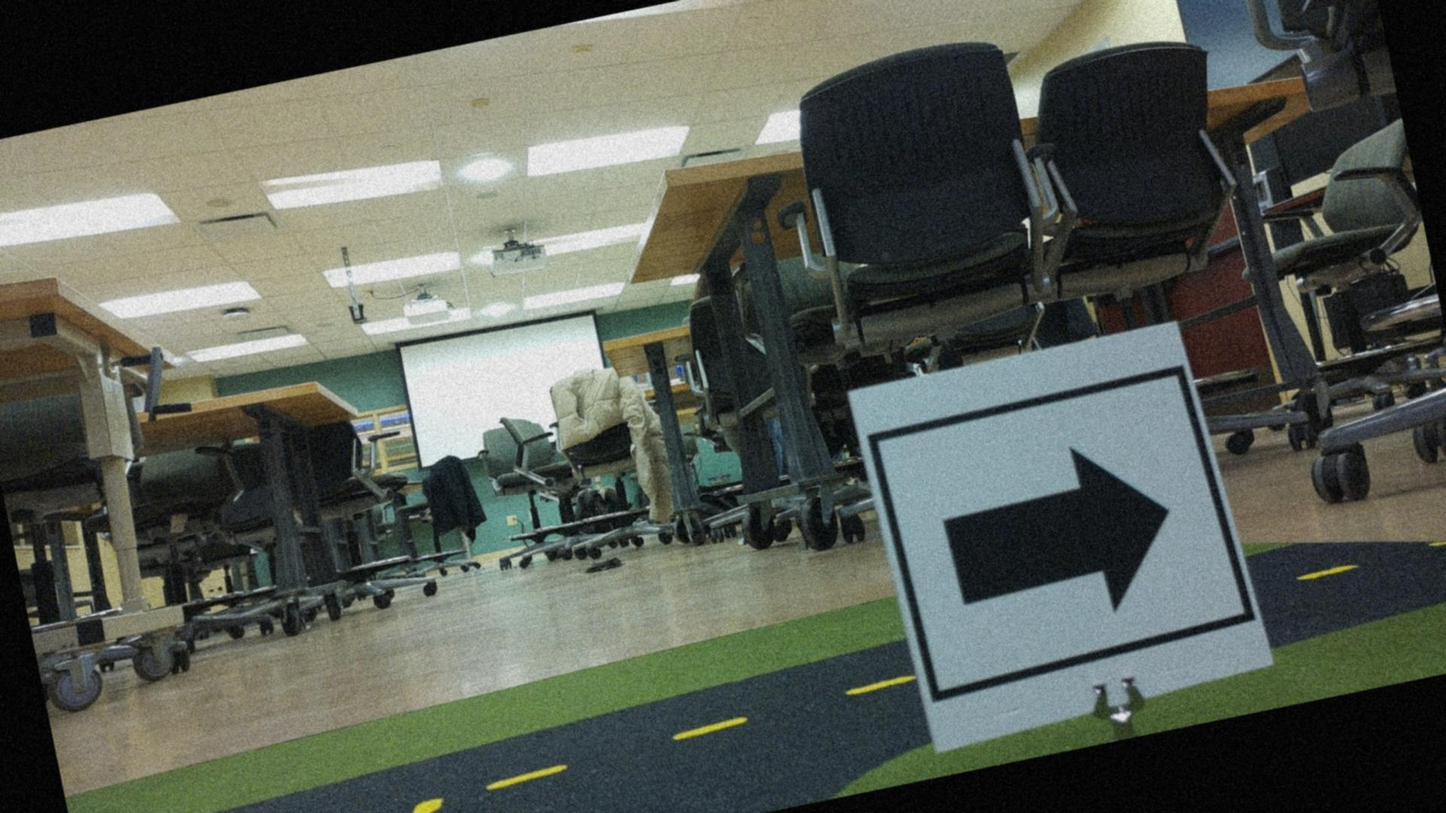turnleft: (867, 333, 1234, 701)
yellowline: (74, 672, 920, 812)
